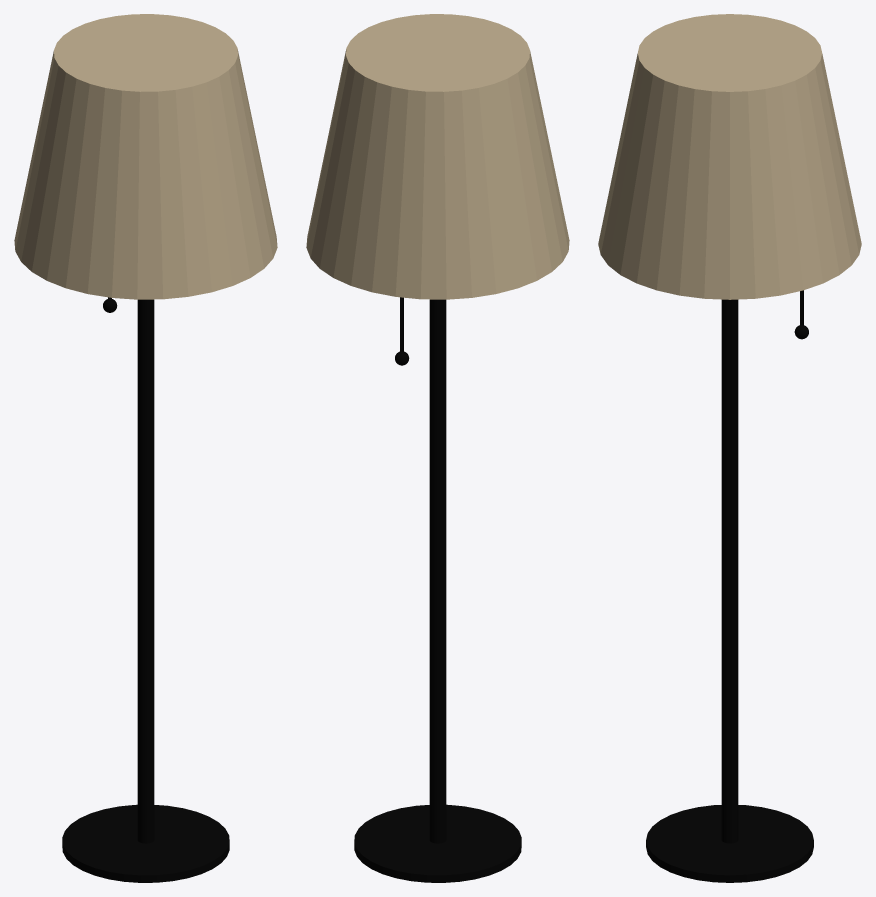
Rendered from Lamp.fbx.
The picture shows the model from 3 angles, left to right: view 1: azimuth 30°, elevation 25°; view 2: azimuth 150°, elevation 25°; view 3: azimuth 270°, elevation 25°; orthographic projection.
Visible parts, largest first — view 1: Shade, Base, Stand; view 2: Shade, Base, Stand; view 3: Shade, Base, Stand.
Boxes of the visible parts, bbox=[...] form: Shade: bbox=[14, 14, 277, 299]; Base: bbox=[62, 804, 229, 882]; Stand: bbox=[137, 299, 154, 843]; Shade: bbox=[306, 14, 569, 299]; Base: bbox=[354, 804, 521, 882]; Stand: bbox=[429, 299, 446, 843]; Shade: bbox=[598, 14, 861, 299]; Base: bbox=[646, 805, 813, 882]; Stand: bbox=[721, 299, 738, 843].
Size of the model in its own units: 110 by 366 by 110.
